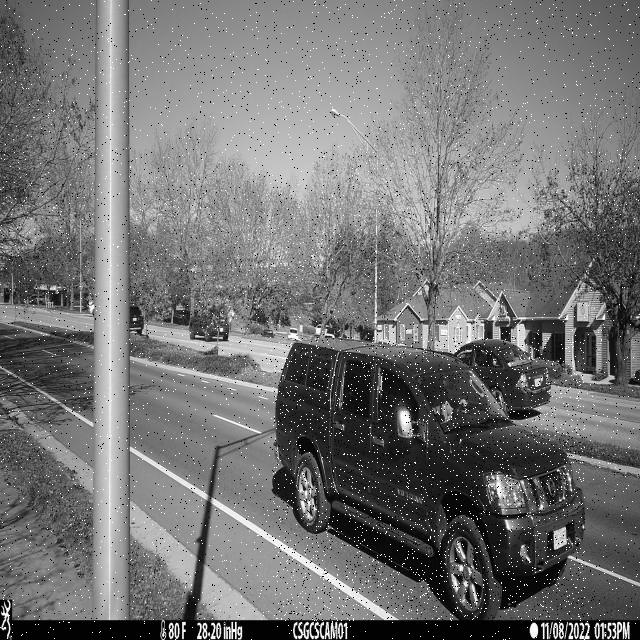Pickup: (273, 337, 585, 621)
